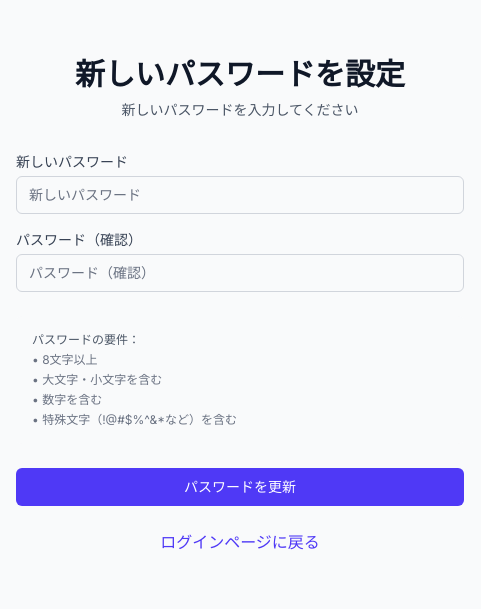
Test case: ResetPasswordPage › トークンありの場合（パスワード設定） › パスワード強度のリアルタイム検証が機能する
# 弱いパスワードを入力
Type "weak" into the password field labelled "新しいパスワード" at (240, 195), box [16, 176, 464, 214]
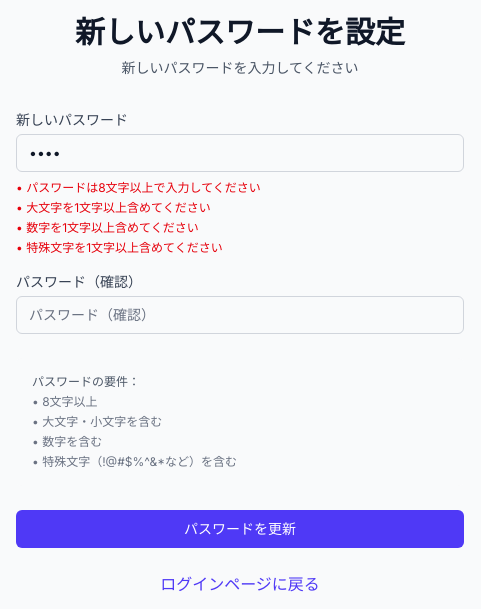
Now the list item "• パスワードは8文字以上で入力してください" is shown, box [16, 180, 261, 195]
Now the list item "• 大文字を1文字以上含めてください" is shown, box [16, 200, 211, 215]
Now the list item "• 数字を1文字以上含めてください" is shown, box [16, 220, 199, 235]
# 強いパスワードを入力
Type "Test123!@#" into the password field labelled "新しいパスワード" at (240, 153), box [16, 134, 464, 172]
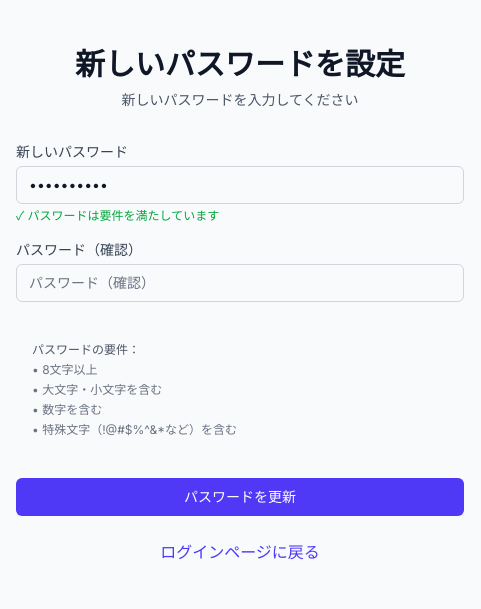
Now the text "✓ パスワードは要件を満たしています" is shown, box [16, 208, 219, 223]
